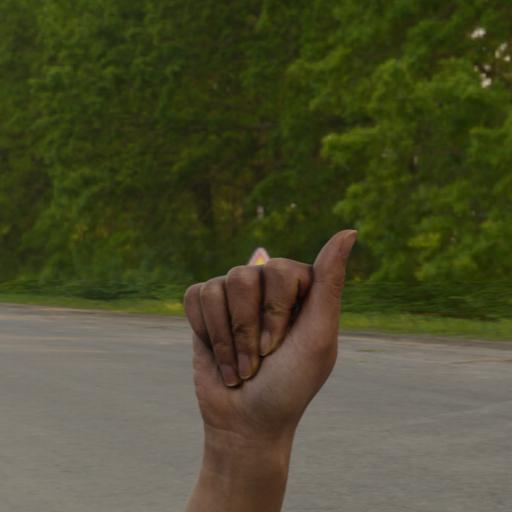A: (162, 210, 368, 474)
